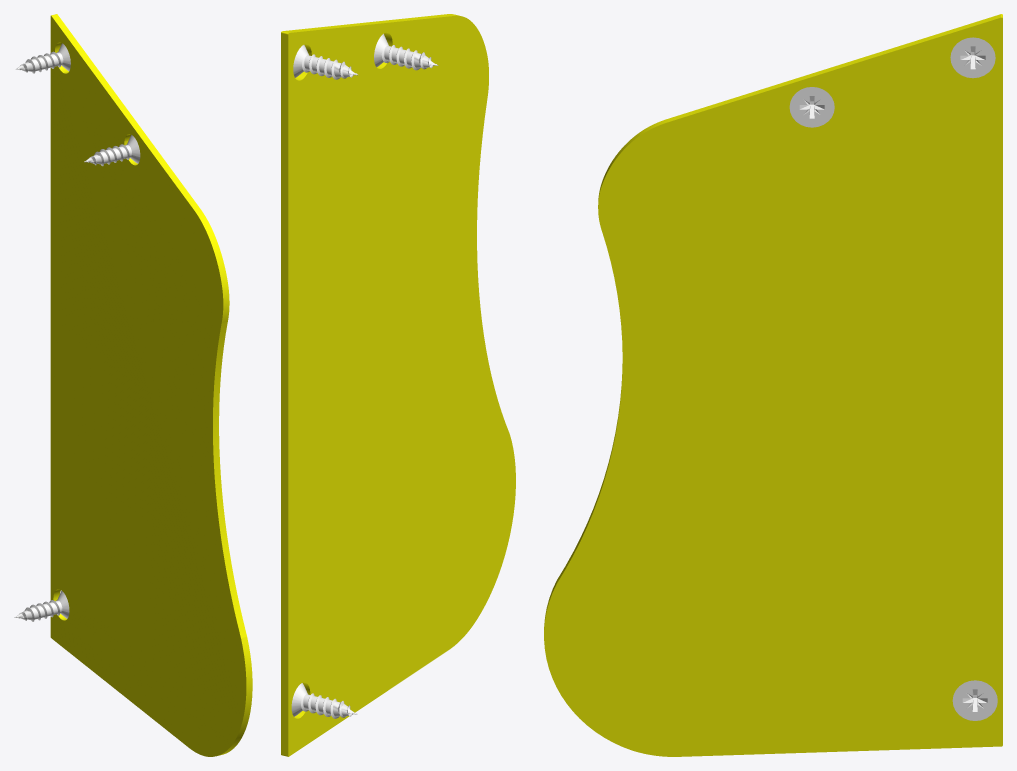
Rendered from wallCapLeft.glb.
The picture shows the model from 3 angles, left to right: view 1: azimuth 30°, elevation 25°; view 2: azimuth 150°, elevation 25°; view 3: azimuth 270°, elevation 25°; orthographic projection. The views are drawn at different scales.
Visible parts, largest first — view 1: Wandprofil_Deckel_1_1, Group4, Group5, Group3; view 2: Wandprofil_Deckel_1_1, Group5, Group3, Group4; view 3: Wandprofil_Deckel_1_1, Group3, Group4, Group5.
Boxes of the visible parts, <box> form: Wandprofil_Deckel_1_1: <box>50,14,252,756</box>; Group4: <box>84,135,140,166</box>; Group5: <box>14,590,69,621</box>; Group3: <box>15,43,70,73</box>; Wandprofil_Deckel_1_1: <box>281,14,515,756</box>; Group5: <box>291,683,357,718</box>; Group3: <box>293,45,358,79</box>; Group4: <box>374,34,438,70</box>; Wandprofil_Deckel_1_1: <box>544,14,1002,756</box>; Group3: <box>950,37,995,78</box>; Group4: <box>789,87,834,127</box>; Group5: <box>952,680,997,720</box>.
Bounding box in the file's own units: 0.018 × 0.1946 × 0.1094.
Materials: 2 (1 with a texture image).
